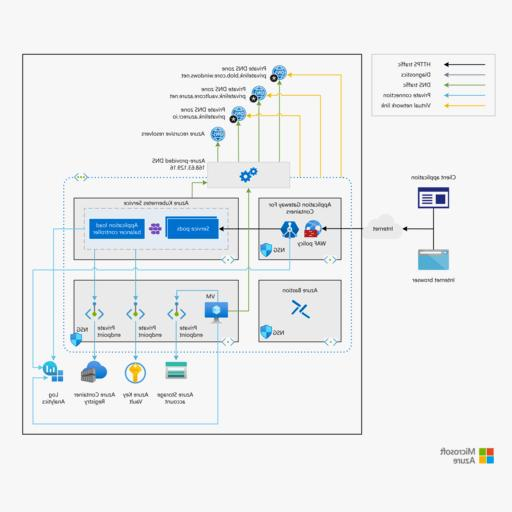actor: (418, 186, 450, 208), (418, 248, 450, 270)
api_gateway: (192, 226, 308, 230), (339, 74, 343, 176), (320, 95, 324, 197), (299, 122, 303, 206), (248, 209, 252, 288), (32, 278, 35, 365), (266, 92, 326, 96), (246, 113, 305, 117), (257, 86, 260, 160), (288, 72, 342, 76), (278, 58, 280, 160), (58, 230, 60, 325), (59, 226, 105, 230), (216, 324, 219, 383), (432, 209, 436, 247), (394, 226, 427, 230), (175, 240, 178, 278), (134, 240, 137, 278), (93, 240, 96, 278), (144, 226, 170, 230), (248, 186, 252, 212), (190, 186, 194, 212), (236, 124, 240, 150), (341, 226, 364, 230), (54, 374, 74, 378), (174, 301, 178, 319), (134, 301, 138, 319), (92, 301, 96, 319), (216, 142, 219, 160), (34, 362, 46, 366)
compute: (259, 196, 343, 260)
data_flow: (74, 278, 240, 342), (208, 160, 292, 186), (124, 361, 146, 384), (42, 361, 64, 384), (304, 222, 322, 244), (271, 65, 287, 83), (250, 86, 266, 104), (230, 106, 246, 124), (210, 125, 226, 143), (70, 329, 84, 345), (265, 242, 278, 258), (261, 324, 274, 340)
database_storage: (74, 196, 240, 260), (259, 278, 343, 342), (90, 216, 146, 240), (166, 216, 218, 240), (204, 296, 228, 324)
network_security: (80, 361, 108, 384), (166, 361, 188, 384)
trust_boundary: (64, 171, 352, 353), (511, 0, 512, 1)
